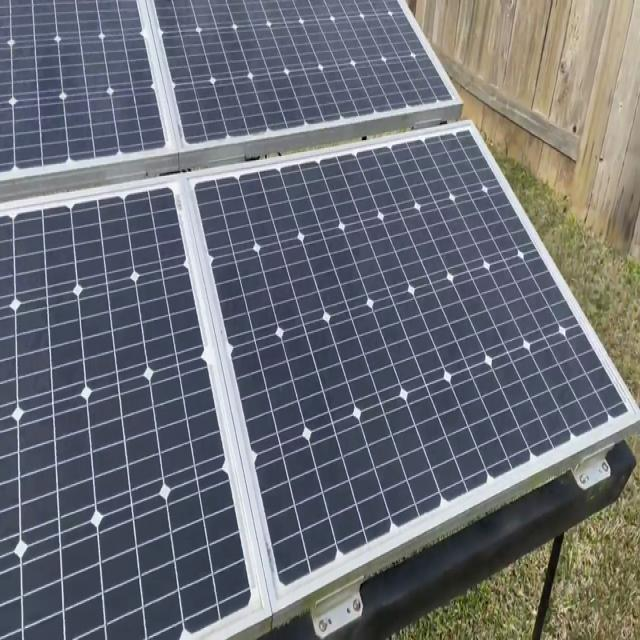Normal Solar Panel: (1, 124, 640, 637), (1, 0, 462, 200)
